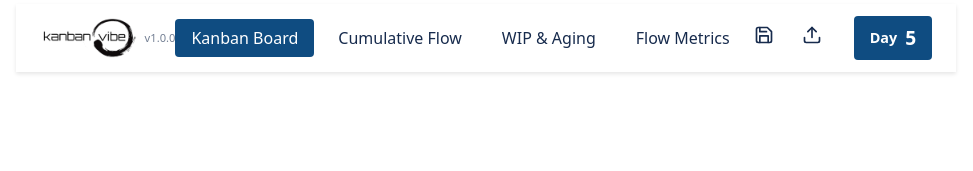
Test case: NavigationBar Component › Save Slots › shows Manage Slots option in save dropdown when slot props are provided
Click the button named "Save options" at (764, 38), box top-left (746, 18), bottom-right (782, 58)
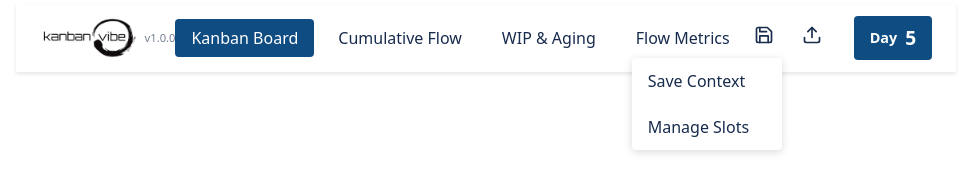
Expected: the button "Manage Slots" is shown, top-left (632, 104), bottom-right (782, 150)
